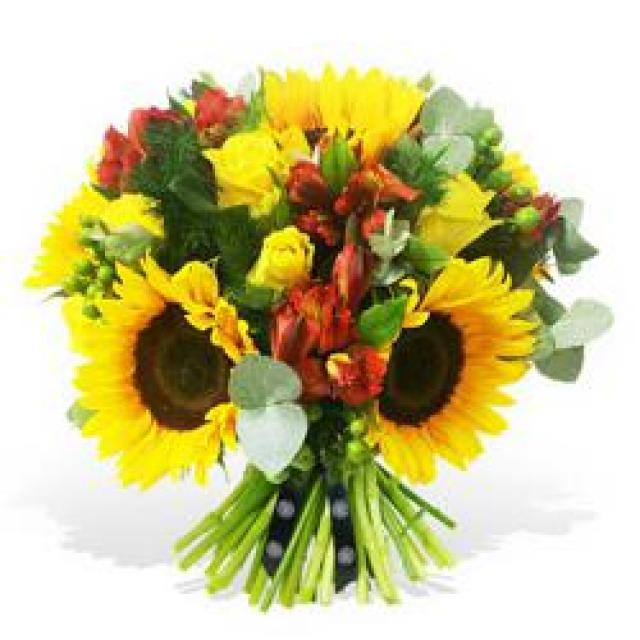sunflower: (64, 251, 259, 497), (354, 248, 552, 486)
